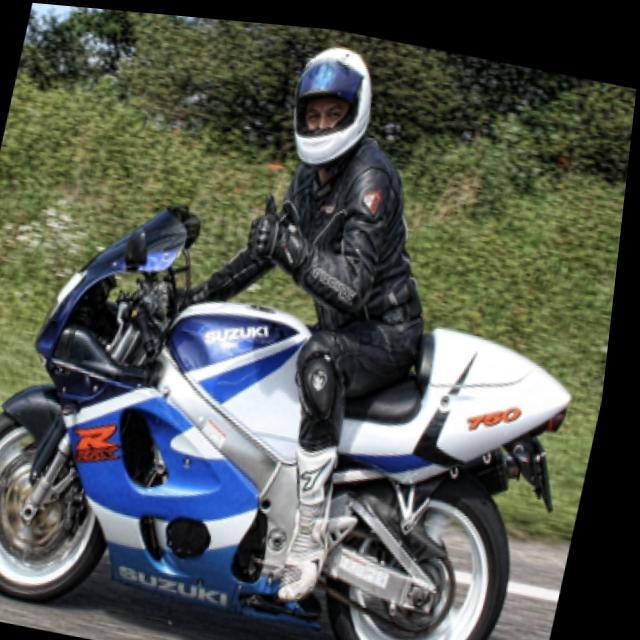Helmet: (282, 35, 376, 169)
